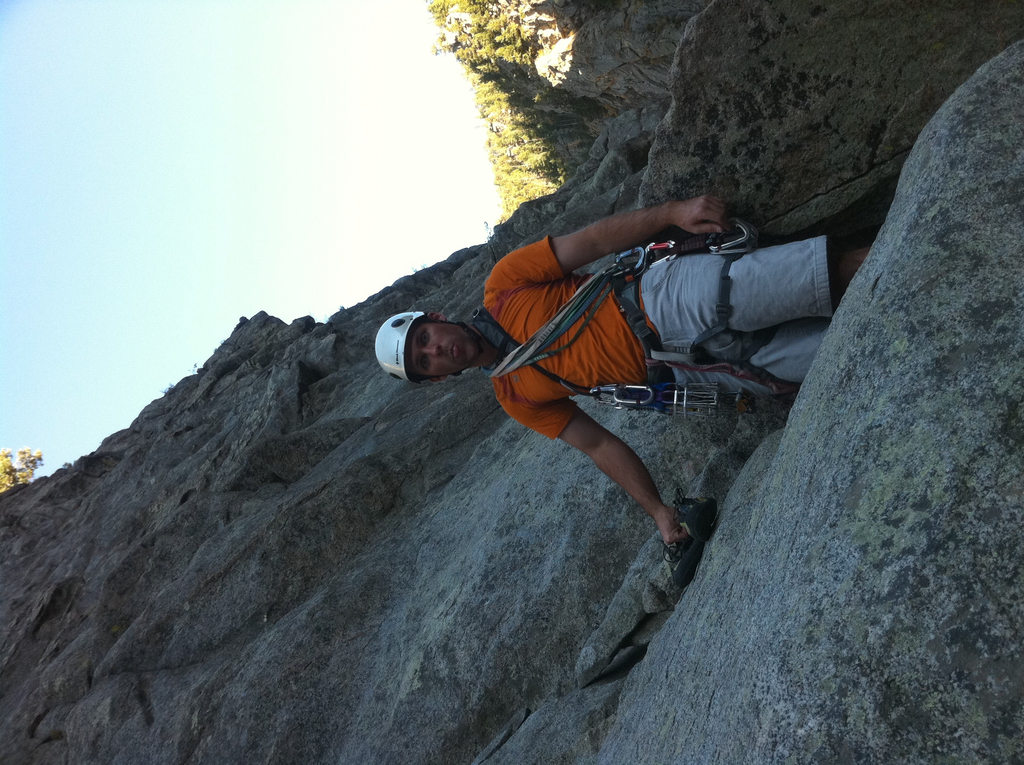Person: (374, 192, 873, 547)
